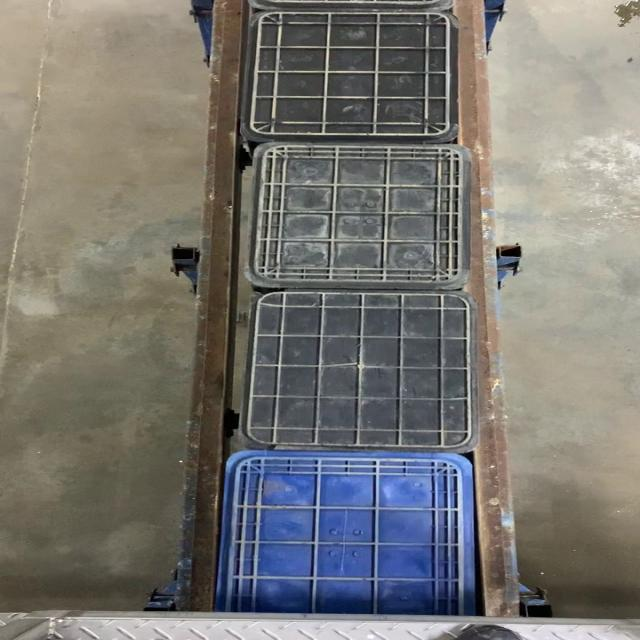Box: (245, 287, 482, 451), (247, 143, 469, 289), (240, 9, 460, 142)
